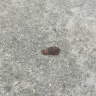Dog: (42, 46, 60, 55)
